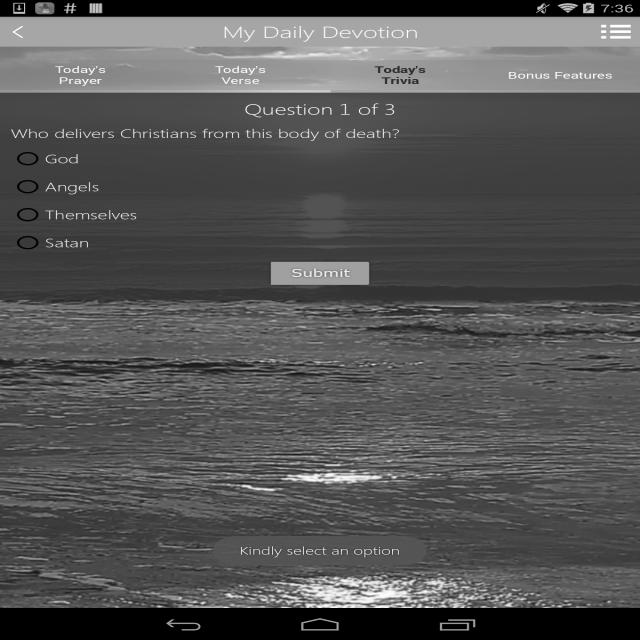ImageView: (597, 16, 640, 46), (0, 16, 37, 46)
RadioButton: (11, 148, 629, 169), (11, 176, 629, 197), (11, 204, 629, 225), (11, 232, 629, 253)
TextView: (0, 16, 640, 46), (11, 99, 629, 119), (11, 125, 629, 142), (0, 60, 160, 90), (160, 60, 320, 90), (320, 60, 480, 90), (480, 60, 640, 90), (267, 260, 373, 287)
